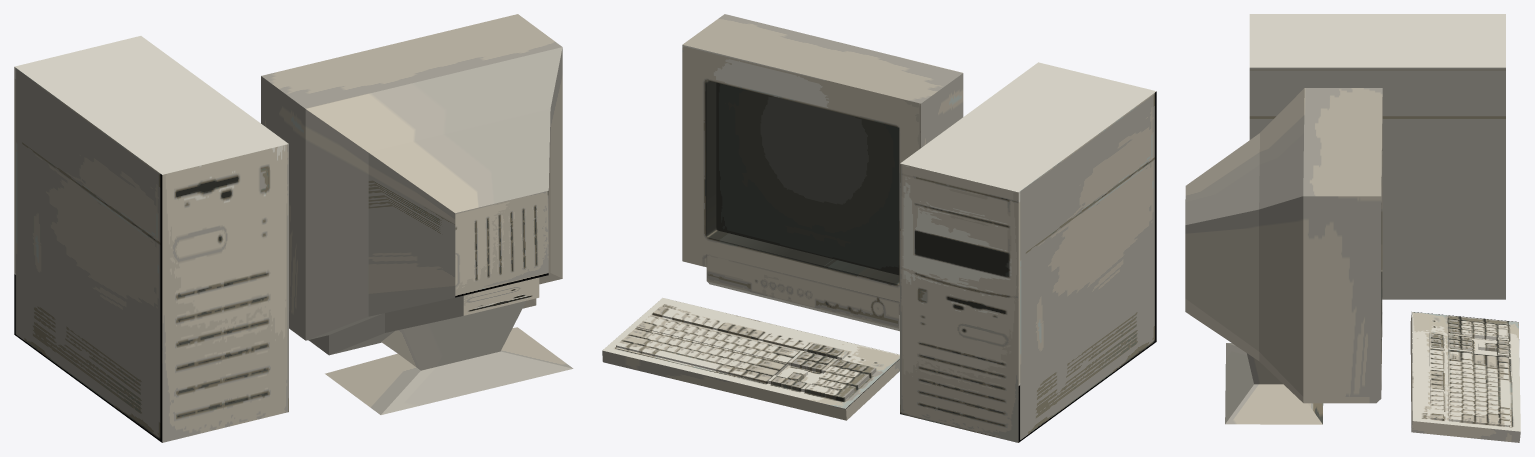
The model's file is FullComp.glb.
3 renders of one model, left to right at view 1: azimuth 30°, elevation 25°; view 2: azimuth 150°, elevation 25°; view 3: azimuth 270°, elevation 25°, orthographic. The views are drawn at different scales.
Parts seen in each view (by area): view 1: Cube.001, Cube.002; view 2: Cube.002, Cube.001, Cube; view 3: Cube.001, Cube.002, Cube.
Boxes of the visible parts, box(x1,y1,x2,y2) form: Cube.001: box(261, 14, 573, 414); Cube.002: box(14, 36, 288, 442); Cube.002: box(900, 62, 1156, 442); Cube.001: box(682, 14, 963, 331); Cube: box(602, 298, 899, 420); Cube.001: box(1185, 88, 1382, 424); Cube.002: box(1249, 14, 1505, 299); Cube: box(1410, 312, 1520, 442).
Size of the model in its own units: 3.41 by 2.11 by 2.62.
Materials: 3 (3 with a texture image).
